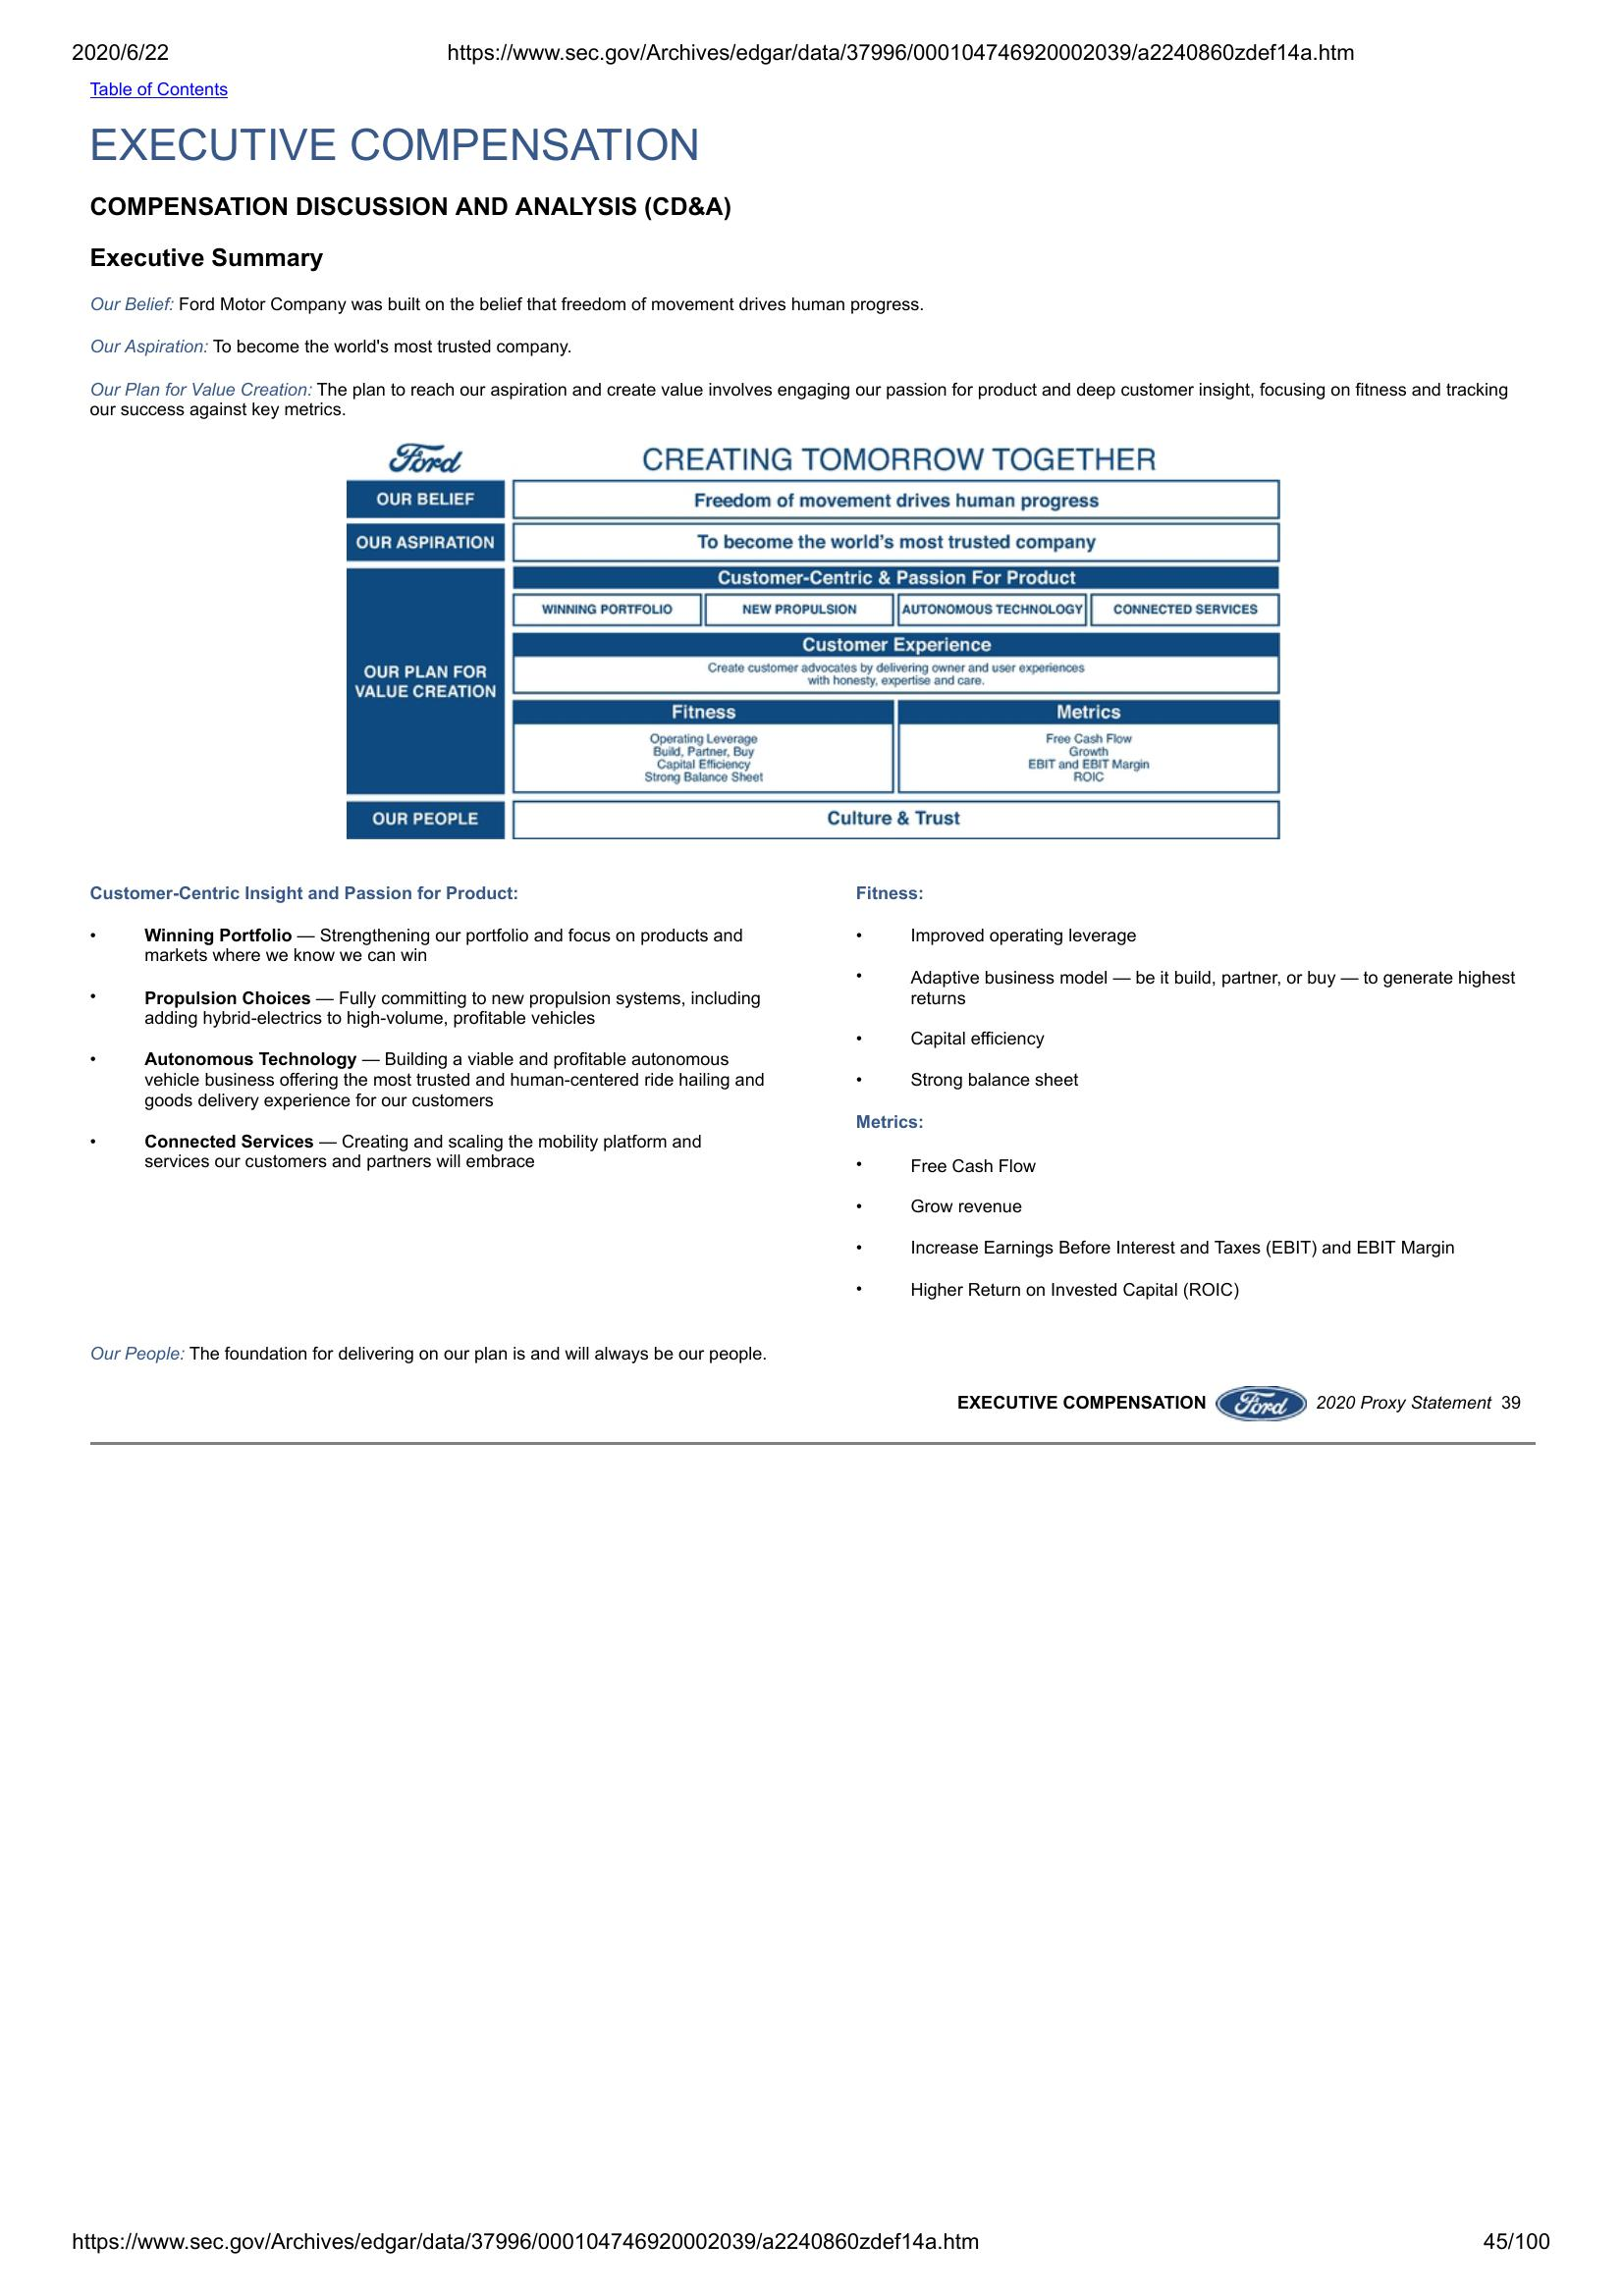table: (341, 437, 1286, 843)
